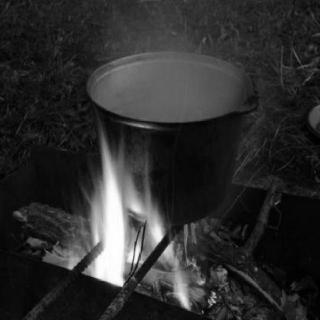Fire: (56, 96, 218, 314)
